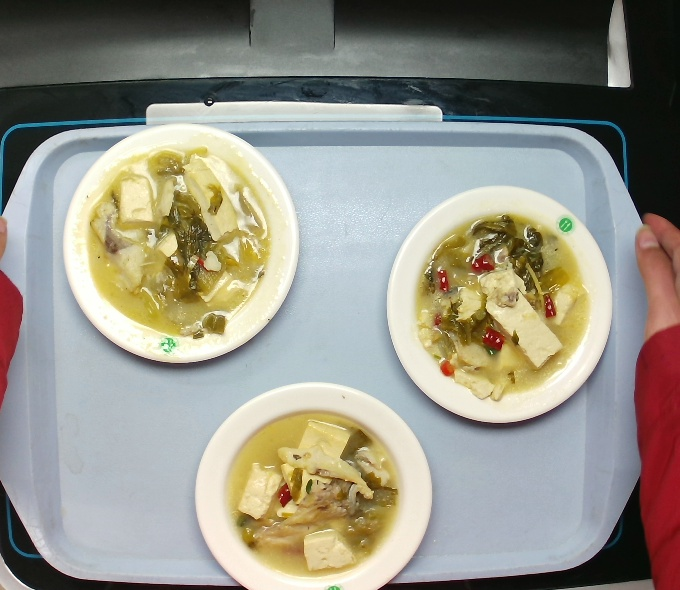wcq-SuanCaiDouFuYu: (75, 141, 281, 337), (404, 209, 594, 403), (224, 412, 409, 576)
